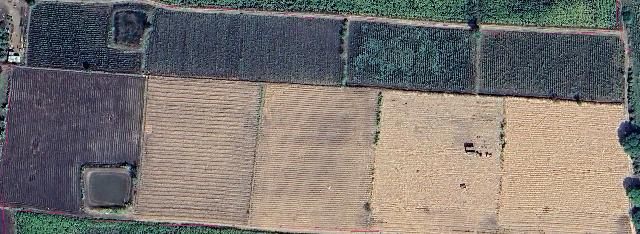DryFarms: (136, 77, 262, 229), (249, 87, 379, 233), (372, 94, 505, 234), (500, 100, 636, 234)
